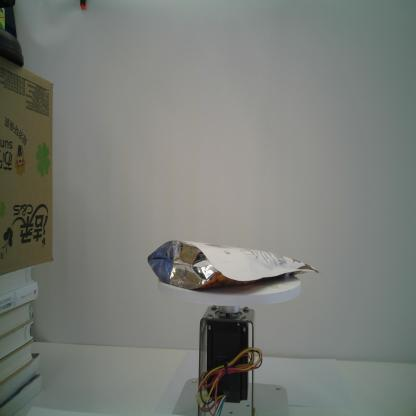Dried Fruit: (147, 240, 322, 290)
